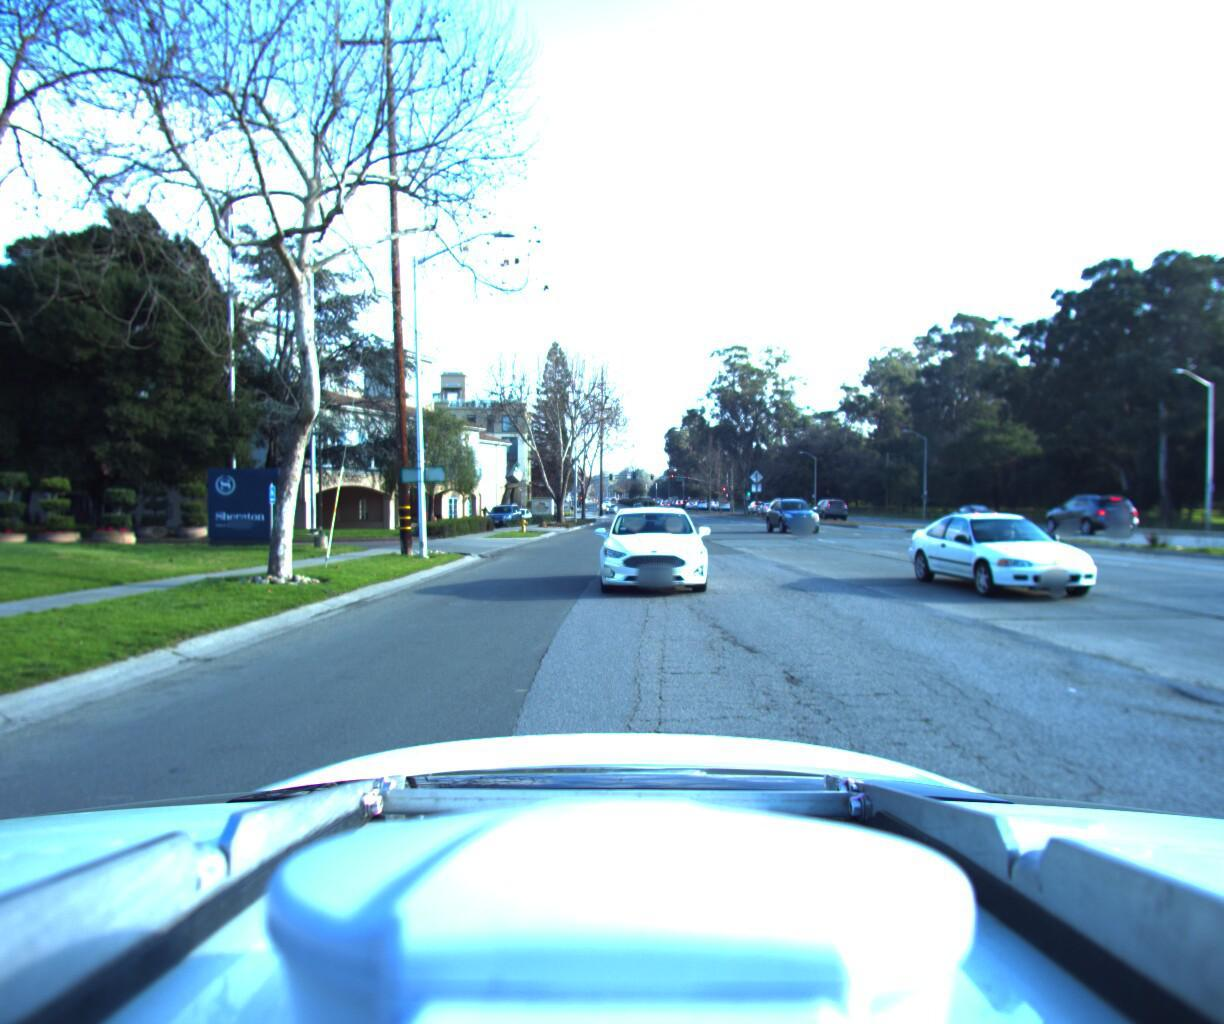car: (939, 507, 1181, 614), (598, 498, 706, 597), (1027, 491, 1125, 529), (770, 493, 835, 534), (484, 494, 524, 523), (937, 497, 991, 518), (809, 491, 847, 514)
